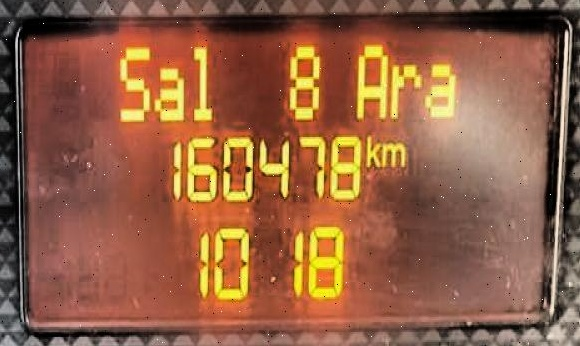0: (211, 223, 250, 300), (219, 132, 255, 202)
1: (192, 226, 210, 300), (288, 225, 304, 298), (166, 137, 181, 202)
4: (256, 135, 292, 200)
6: (182, 133, 217, 203)
7: (295, 130, 325, 200)
8: (305, 221, 345, 300), (285, 40, 322, 121), (326, 131, 361, 200)
X: (114, 38, 151, 123), (351, 38, 388, 120), (421, 60, 460, 120), (189, 40, 214, 123), (388, 60, 421, 121), (152, 63, 186, 122), (381, 138, 405, 167), (364, 132, 380, 167)
